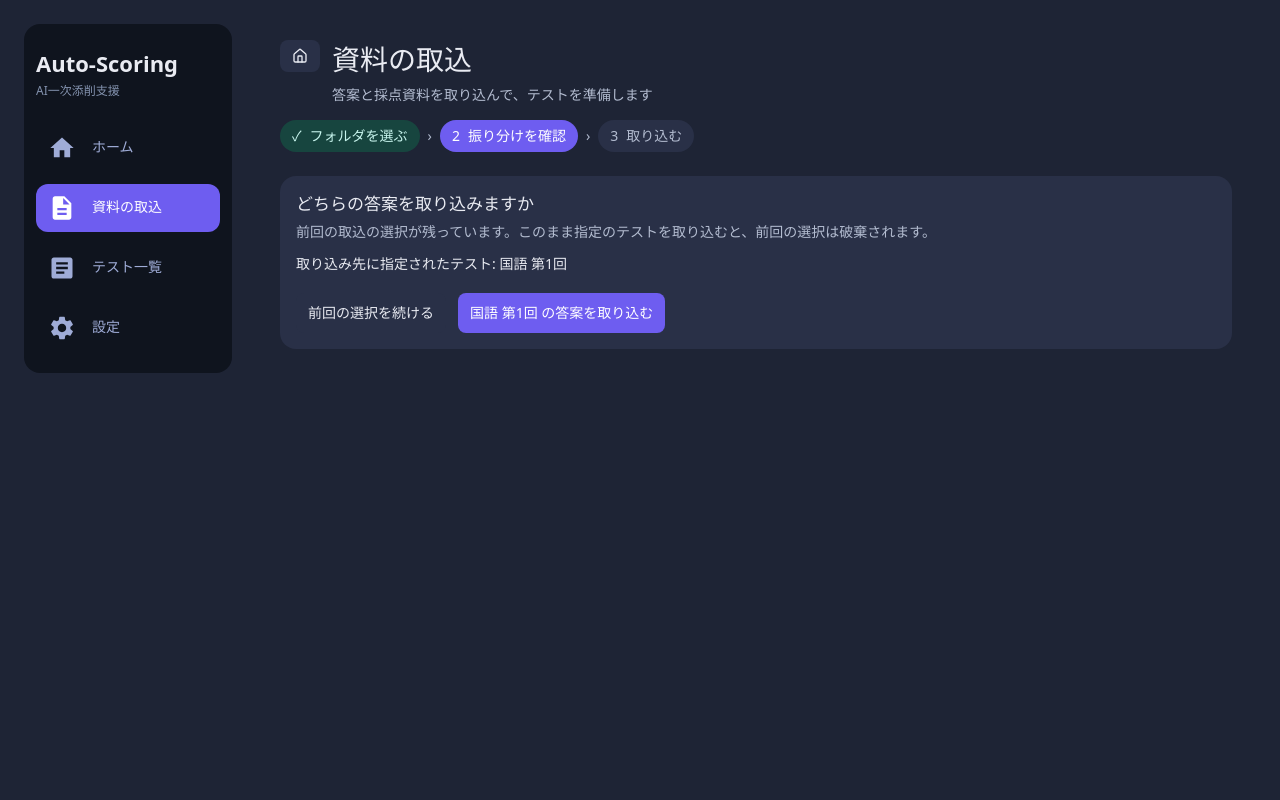
Test case: IntakePage target preselection (Issue #414) › discards the session and applies the specified test on request
Expected: the element with test id "intake-target-conflict" is shown, top-left (280, 176), bottom-right (1232, 350)
Click the button with test id "intake-target-discard" at (562, 313), box top-left (458, 293), bottom-right (665, 334)
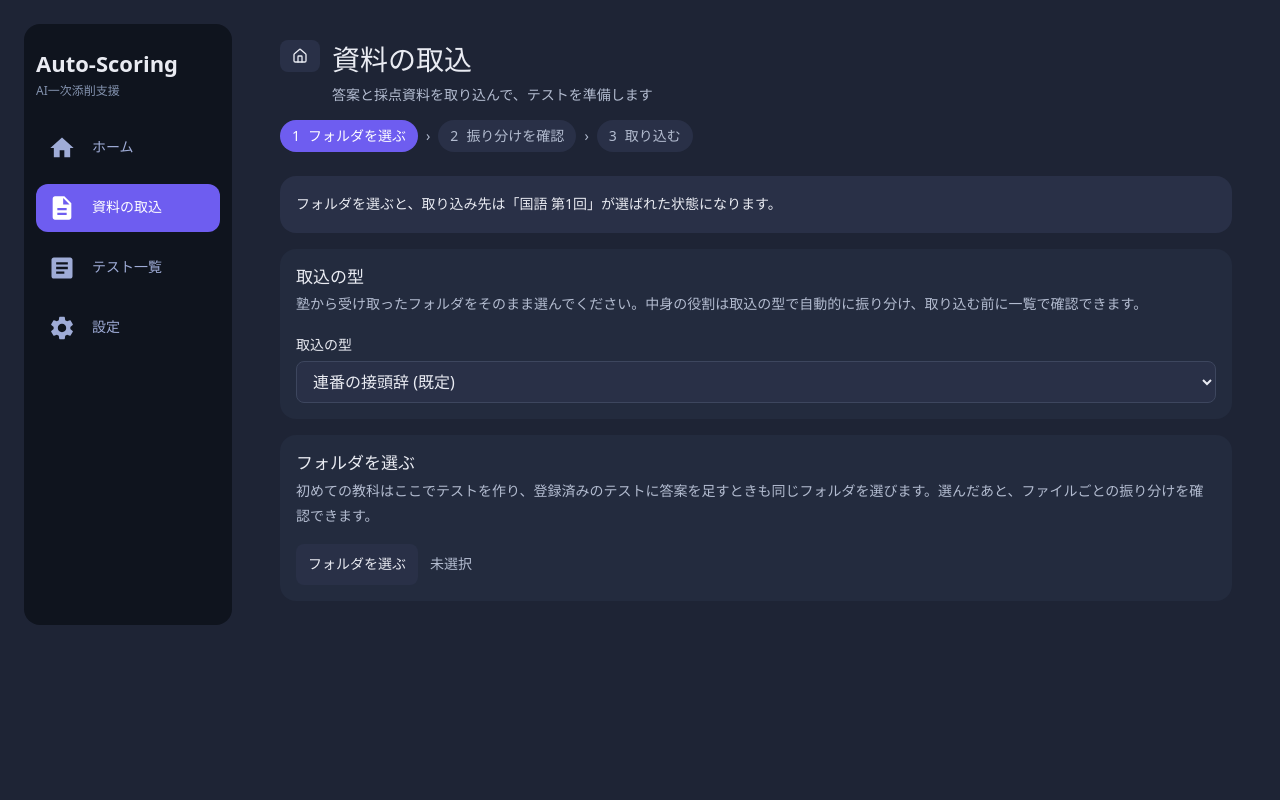
Now the button with test id "intake-choose-folder" is shown
Click the button with test id "intake-choose-folder" at (357, 565), box top-left (296, 544), bottom-right (418, 585)
(page scrolled)
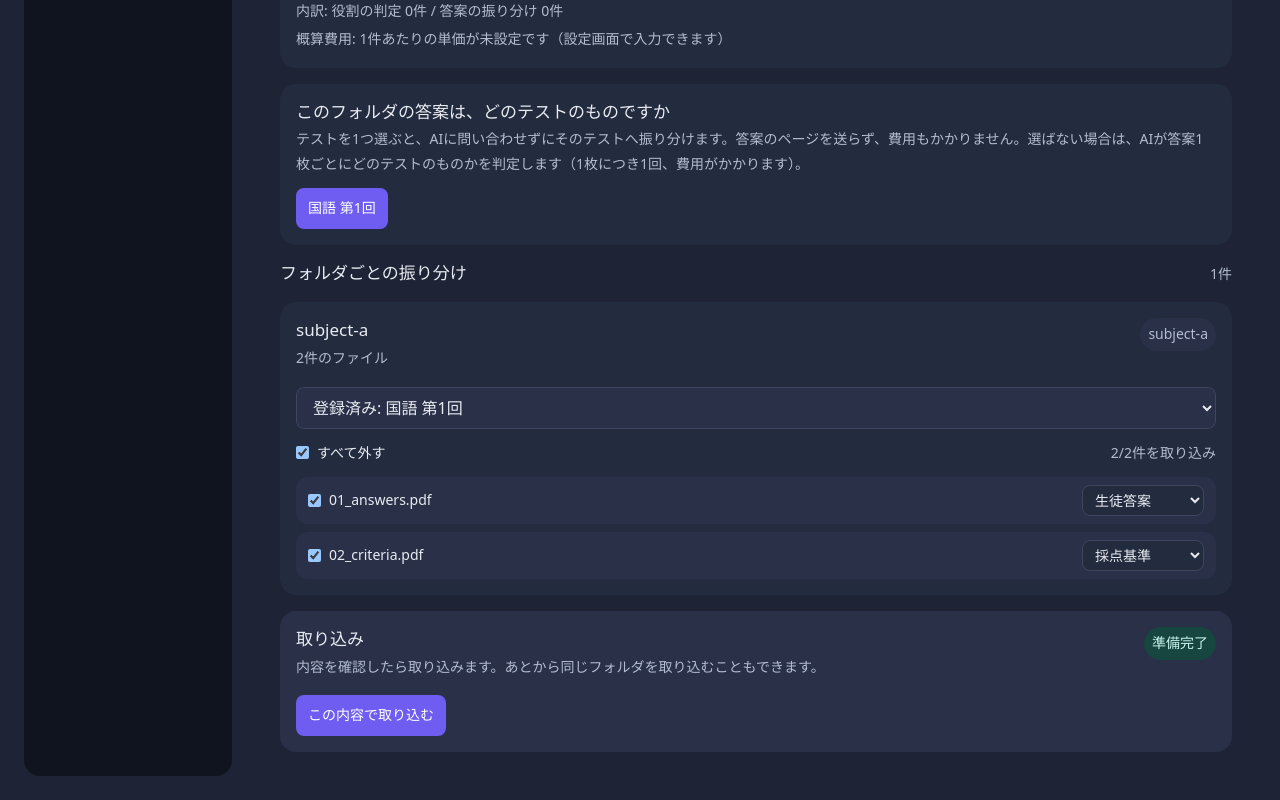
Now the dropdown with test id "intake-target-subject-a" shows "登録済み: 国語 第1回", box top-left (296, 387), bottom-right (1216, 429)
